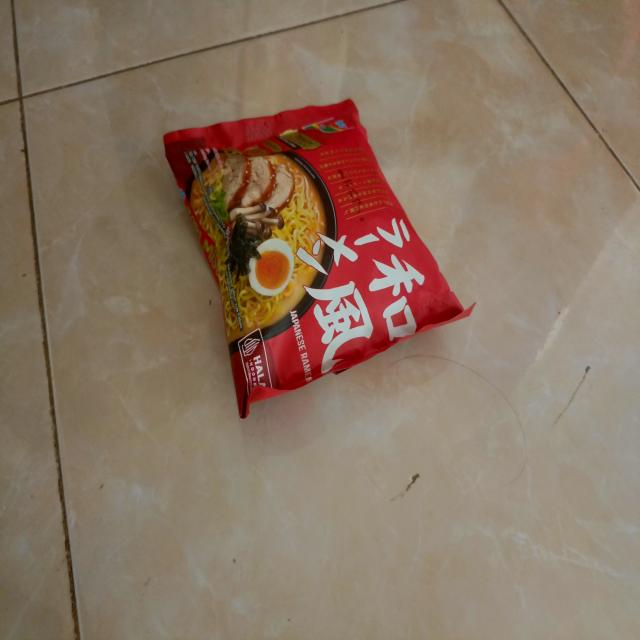indomie-tori-miso: (162, 92, 478, 416)
